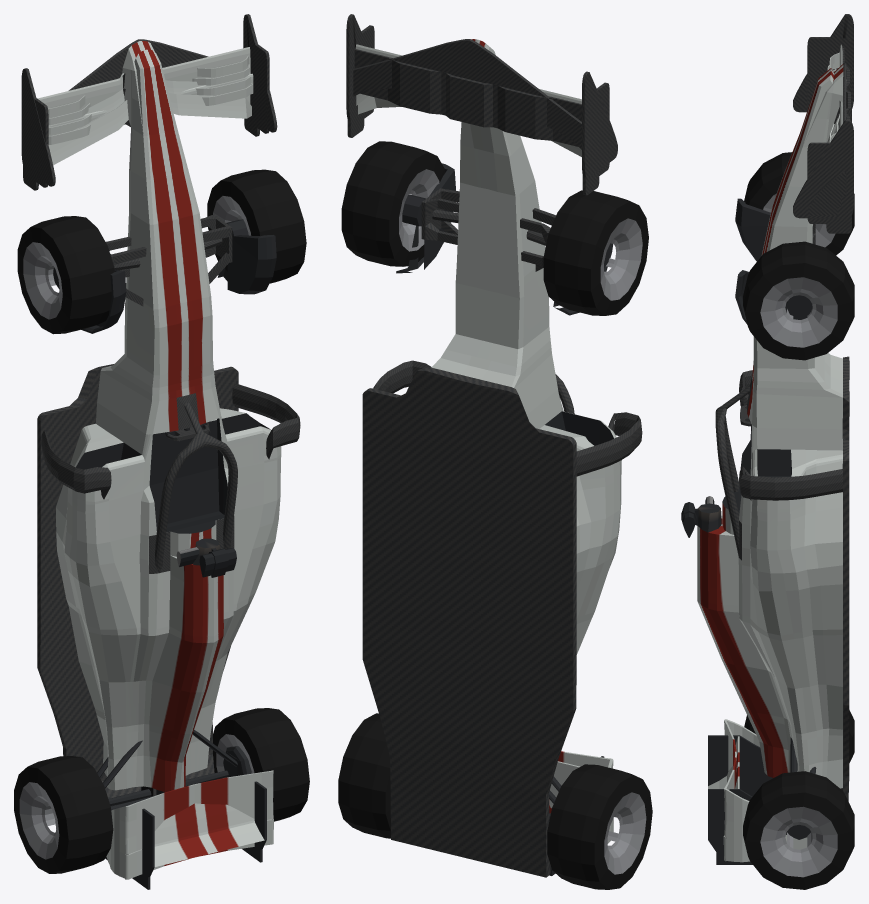
The model's file is lowpoly-f1.glb.
3 views of the same model, side by side, from view 1: azimuth 30°, elevation 25°; view 2: azimuth 150°, elevation 25°; view 3: azimuth 270°, elevation 25° (orthographic). The views are drawn at different scales.
Visible parts, largest first — view 1: Main_body.COmmiting, Wheel.002, Wheel, Front_Wing2.001, Front_Wing3, Wheel.001, Wheel.003, Front_Spoiler, Spoiler_2, Spoiler, Halo, Wheel_Holder.002 (+6 smaller); view 2: Main_body.COmmiting, Wheel.002, Wheel, Front_Spoiler, Wheel.001, Front_Wing3, Wheel.003, Front_Wing2.001, FrontWheels_bar, Wheel_Holder.002, Spoiler_2; view 3: Main_body.COmmiting, Wheel.003, Wheel.001, Front_Wing2.001, Spoiler, Front_Spoiler, Front_Wing3, Spoiler_2, Wheel, Halo, Wheel_Holder, Wheel_Holder.002 (+2 smaller).
Boxes of the visible parts, box(x1,y1,x2,y2) form: Main_body.COmmiting: box(37, 128, 300, 806); Wheel.002: box(14, 756, 113, 873); Wheel: box(17, 216, 114, 334); Front_Wing2.001: box(21, 14, 277, 186); Front_Wing3: box(48, 39, 251, 164); Wheel.001: box(207, 169, 306, 283); Wheel.003: box(213, 708, 309, 821); Front_Spoiler: box(23, 38, 269, 190); Spoiler_2: box(106, 770, 273, 878); Spoiler: box(105, 781, 266, 889); Halo: box(149, 393, 237, 573); Wheel_Holder.002: box(217, 219, 276, 294); Main_body.COmmiting: box(362, 122, 642, 877); Wheel.002: box(547, 764, 652, 889); Wheel: box(543, 190, 648, 315); Front_Spoiler: box(347, 25, 609, 195); Wheel.001: box(341, 141, 445, 266); Front_Wing3: box(353, 39, 581, 156); Wheel.003: box(338, 713, 390, 838); Front_Wing2.001: box(346, 14, 617, 178); FrontWheels_bar: box(421, 188, 555, 271); Wheel_Holder.002: box(396, 163, 455, 273); Spoiler_2: box(558, 751, 613, 843); Main_body.COmmiting: box(697, 133, 849, 801); Wheel.003: box(743, 771, 854, 889); Wheel.001: box(743, 241, 854, 360); Front_Wing2.001: box(793, 14, 853, 218); Spoiler: box(708, 735, 772, 864); Front_Spoiler: box(807, 37, 851, 233); Front_Wing3: box(803, 62, 846, 215); Spoiler_2: box(724, 719, 807, 862); Wheel: box(744, 152, 854, 255); Halo: box(715, 375, 752, 560); Wheel_Holder: box(735, 198, 770, 261); Wheel_Holder.002: box(735, 270, 812, 324).
Bounding box in the file's own units: 1.86 × 5.73 × 1.16.
1 material, 1 textured.
